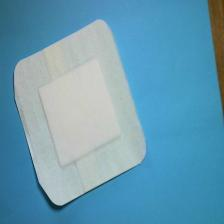Dressing: (12, 20, 155, 209)
